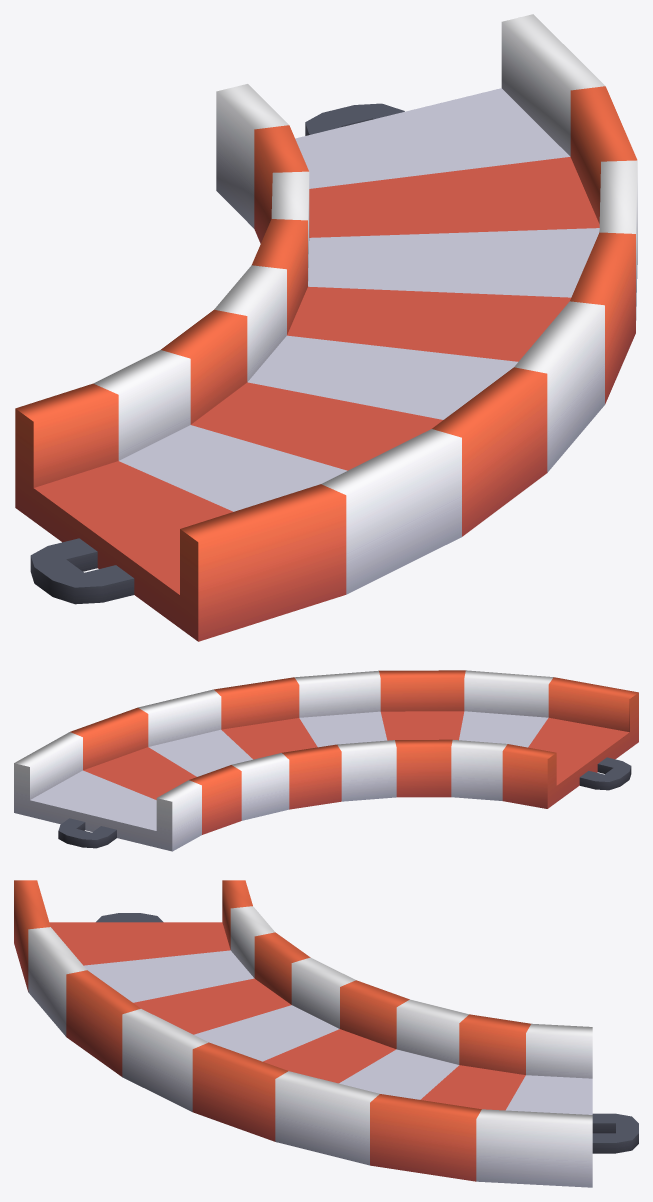
Rendered from kenney-toy-car-track-striped-narrow-corner-small.glb.
The picture shows the model from 3 angles, top to bottom: view 1: azimuth 30°, elevation 25°; view 2: azimuth 150°, elevation 25°; view 3: azimuth 270°, elevation 25°; orthographic projection. The views are drawn at different scales.
Visible parts, largest first — view 1: track-striped-narrow-corner-small; view 2: track-striped-narrow-corner-small; view 3: track-striped-narrow-corner-small.
Part boxes in pixels (x1,y1,x2,y2): track-striped-narrow-corner-small: (15,14,637,641); track-striped-narrow-corner-small: (14,670,638,851); track-striped-narrow-corner-small: (14,880,638,1187).
Size of the model in its own units: 2.7 by 0.2999 by 2.7.
Materials: 1 (1 with a texture image).
